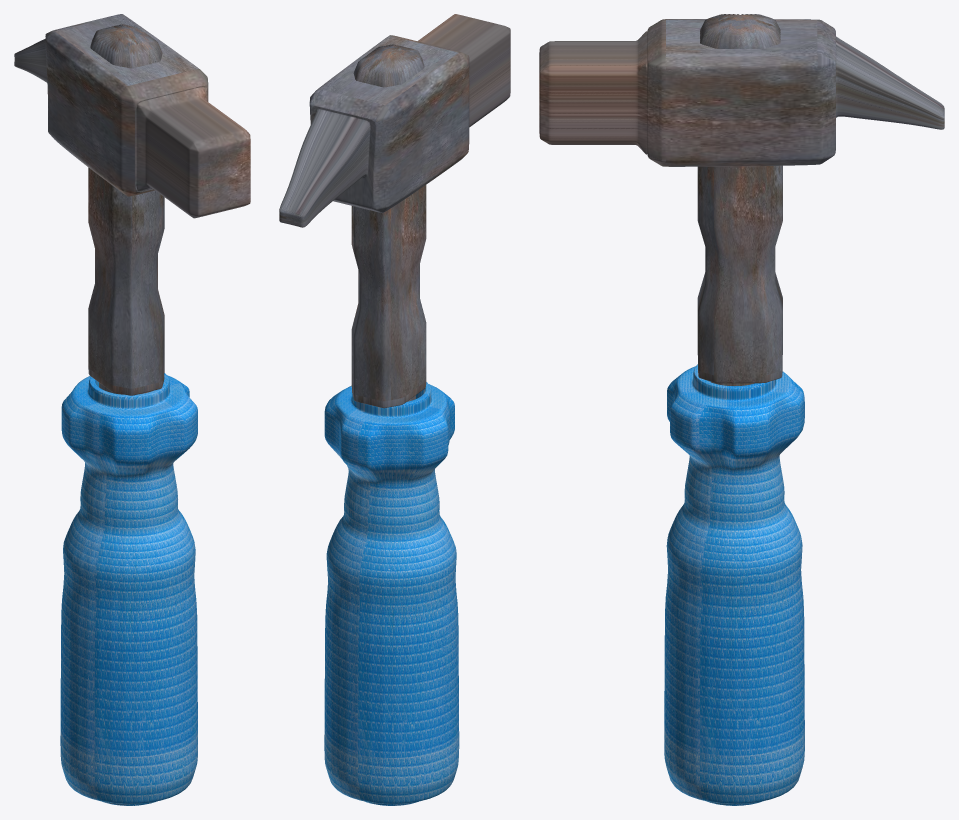
File: Martelo_2.fbx
3 views of the same model, side by side, from view 1: azimuth 30°, elevation 25°; view 2: azimuth 150°, elevation 25°; view 3: azimuth 270°, elevation 25° (orthographic). The views are drawn at different scales.
Parts seen in each view (by area): view 1: Cylinder.001, Cube.005, Cube.006; view 2: Cylinder.001, Cube.005, Cube.006; view 3: Cylinder.001, Cube.005, Cube.006.
Part boxes in pixels (bbox=[...]): Cylinder.001: bbox=[60, 373, 197, 805]; Cube.005: bbox=[14, 14, 250, 218]; Cube.006: bbox=[88, 24, 164, 395]; Cylinder.001: bbox=[324, 382, 459, 805]; Cube.005: bbox=[279, 14, 510, 227]; Cube.006: bbox=[351, 44, 426, 408]; Cylinder.001: bbox=[664, 364, 804, 805]; Cube.005: bbox=[539, 19, 944, 166]; Cube.006: bbox=[697, 14, 782, 385].
Size of the model in its own units: 189 by 1135 by 539.
3 materials, 3 textured.
